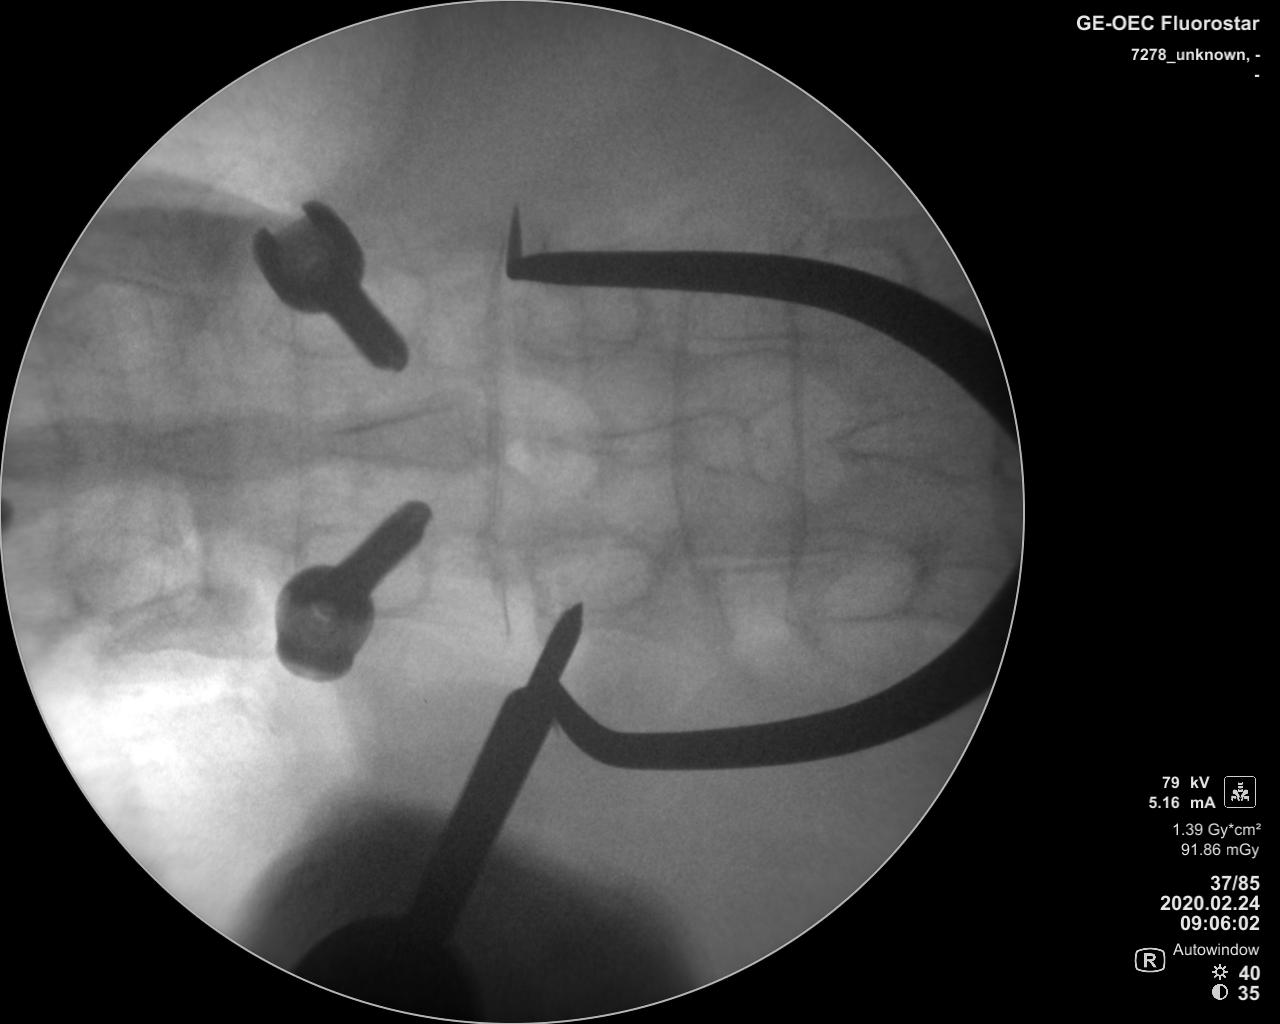eyes: (792, 521, 926, 625), (525, 523, 664, 620), (281, 267, 432, 354), (514, 277, 649, 367), (65, 523, 190, 613), (302, 525, 427, 614)
line: (479, 233, 513, 630), (776, 299, 812, 612), (671, 289, 702, 613), (283, 315, 316, 560)
nose: (564, 405, 755, 481), (824, 408, 999, 487), (315, 396, 502, 469), (146, 408, 310, 483), (1, 421, 139, 488)
